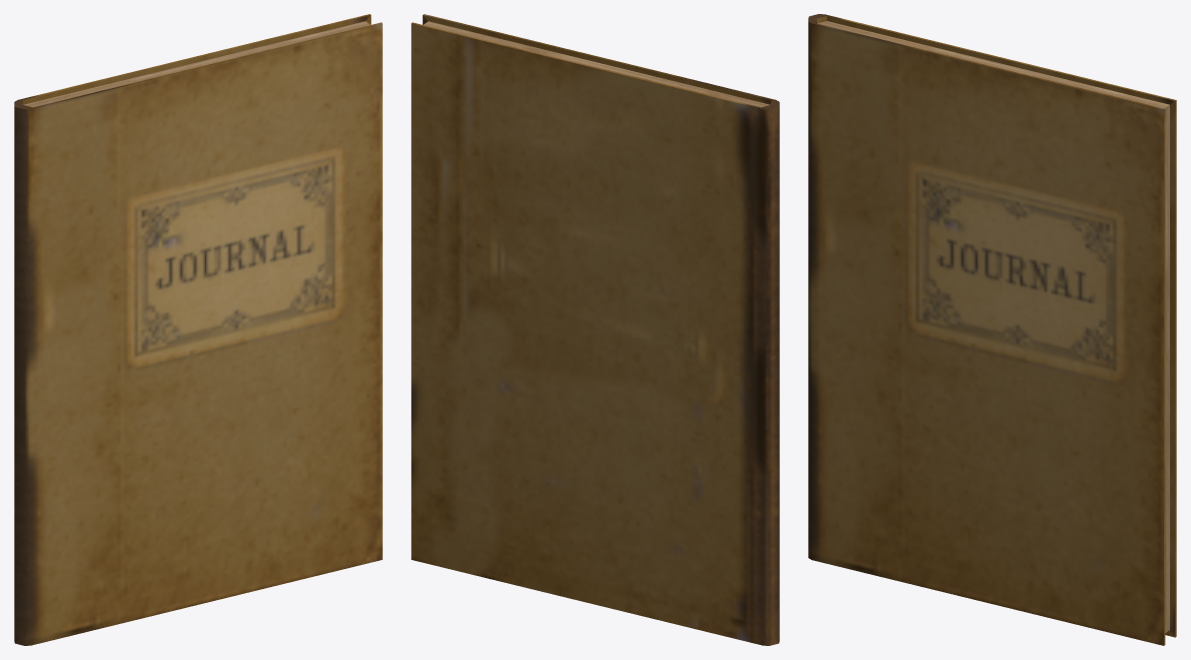
File: SM_Book_Old.025.fbx
The picture shows the model from 3 angles, left to right: view 1: azimuth 30°, elevation 25°; view 2: azimuth 150°, elevation 25°; view 3: azimuth 330°, elevation 25°; orthographic projection.
Visible parts, largest first — view 1: SM_Book_Old.025; view 2: SM_Book_Old.025; view 3: SM_Book_Old.025.
Boxes of the visible parts, x1,y1,x2,y2 form: SM_Book_Old.025: (14,14,382,645); SM_Book_Old.025: (411,14,779,645); SM_Book_Old.025: (808,14,1176,645).
Size of the model in its own units: 0.2307 by 0.327 by 0.0141.
